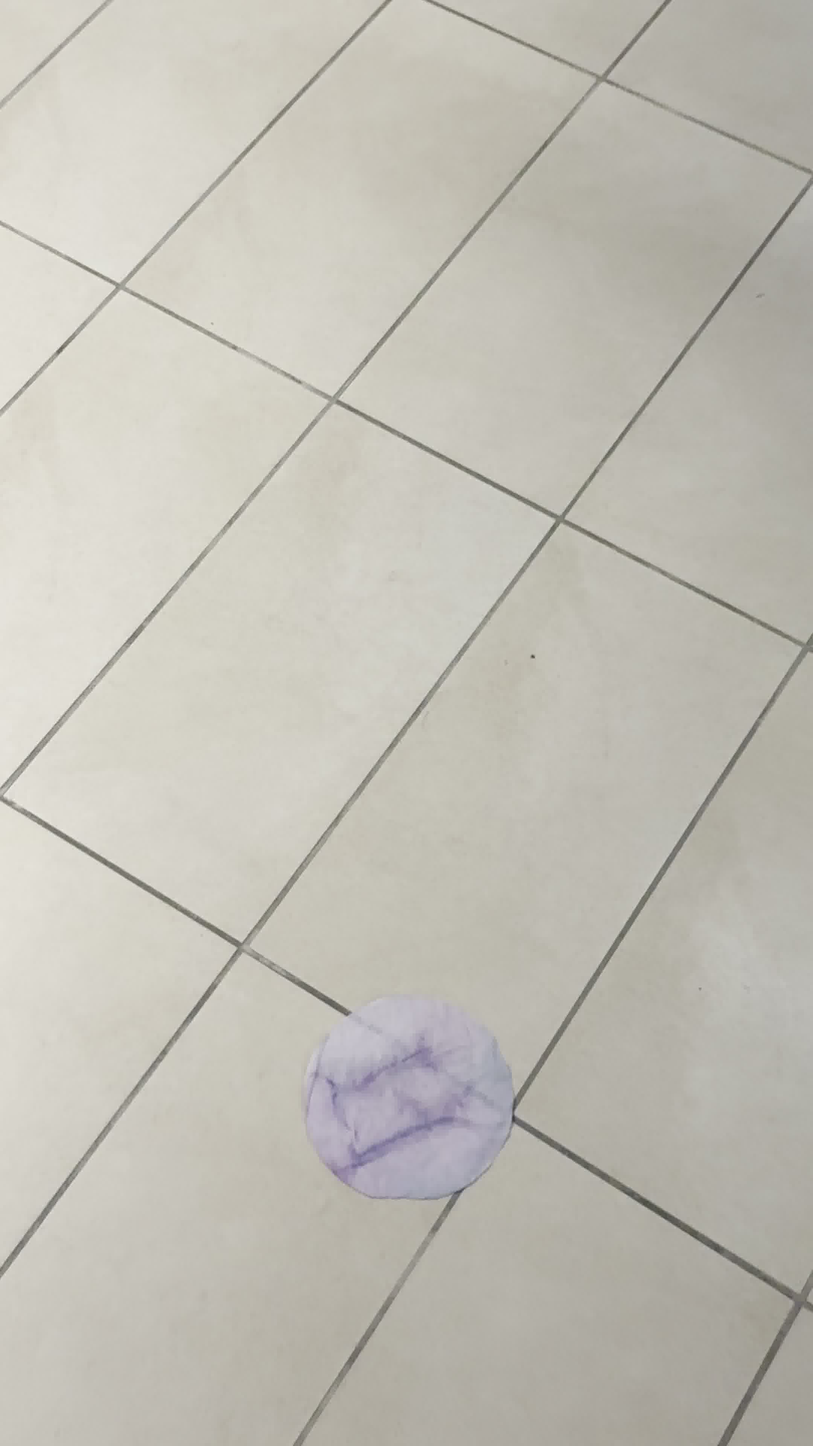Target: (306, 1003, 513, 1199)
